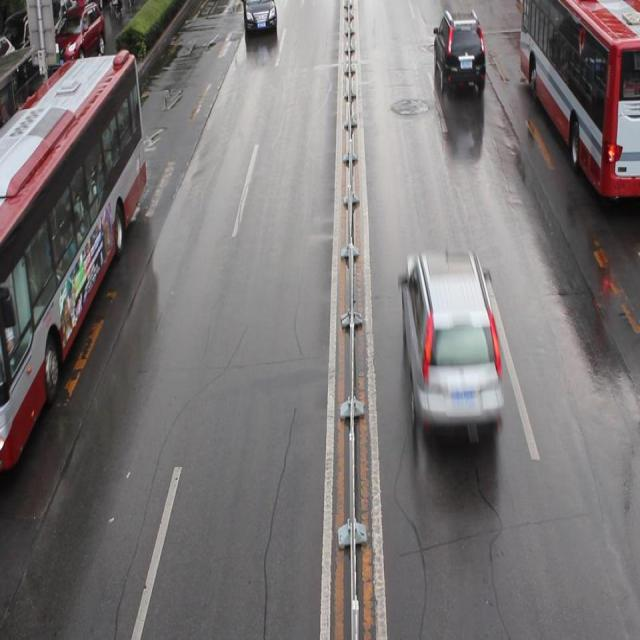car: (400, 253, 501, 432), (432, 9, 485, 89), (51, 8, 106, 67), (243, 2, 275, 34)
van: (1, 50, 148, 475), (520, 1, 640, 201)
